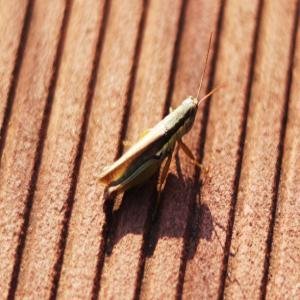locust: (97, 44, 230, 210)
